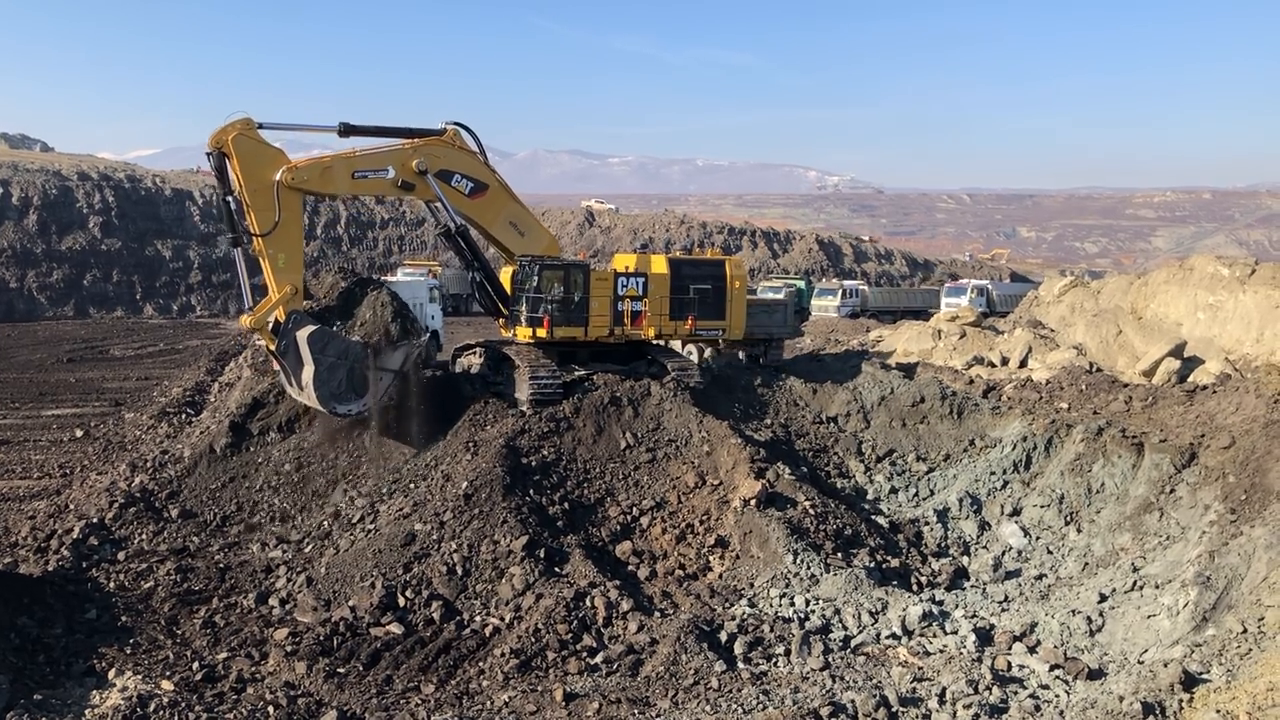empty: (252, 274, 444, 422)
